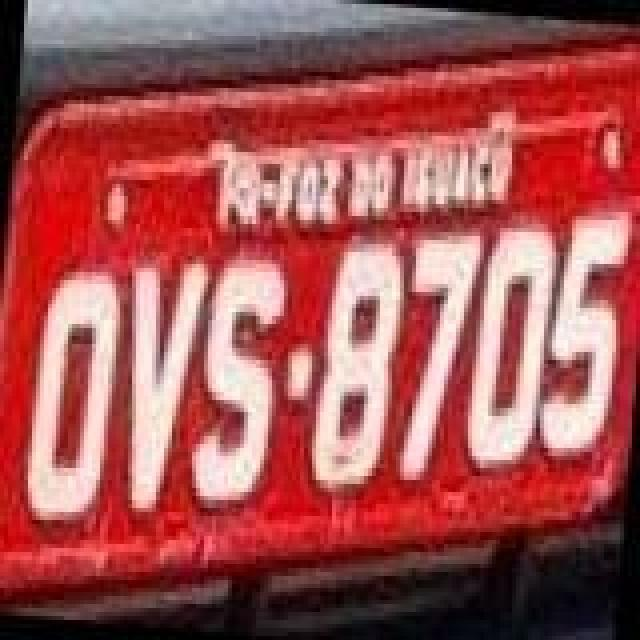5: (534, 206, 634, 466)
7: (392, 228, 488, 492)
8: (308, 236, 412, 500)
O: (18, 256, 126, 528), (464, 220, 560, 484)
S: (188, 252, 292, 516)
V: (110, 256, 210, 520)
